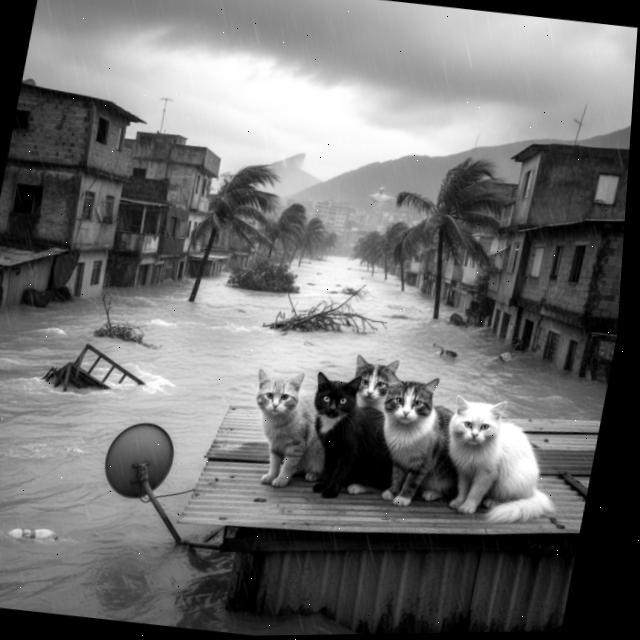cat: (422, 387, 579, 537), (358, 365, 479, 512), (290, 369, 411, 509), (231, 362, 347, 498), (340, 350, 407, 422)
